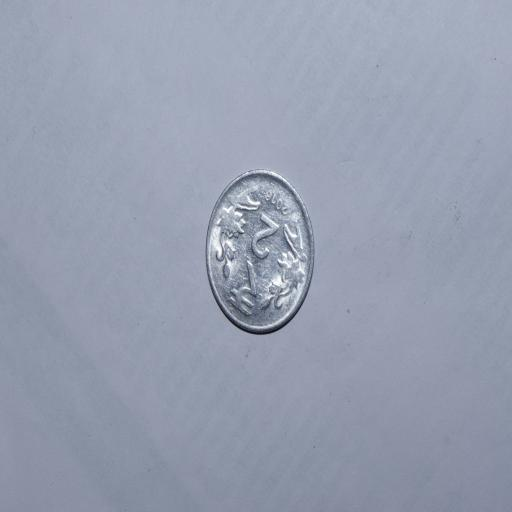rupee2: (205, 170, 316, 333)
